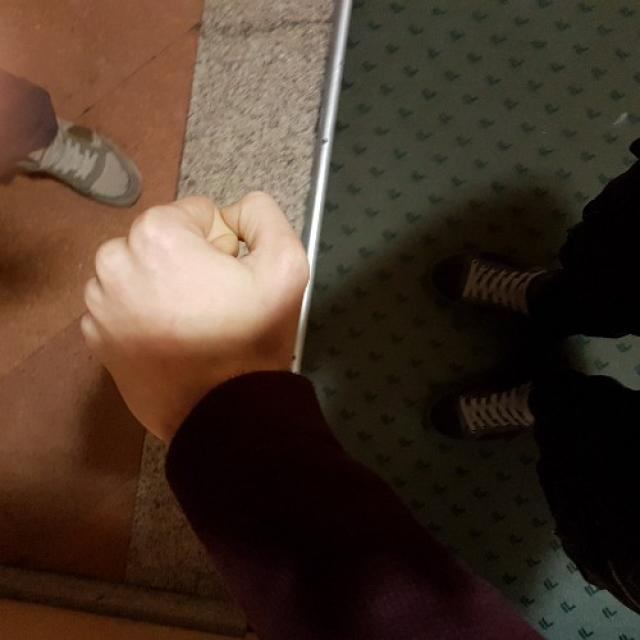rock: (78, 194, 310, 406)
